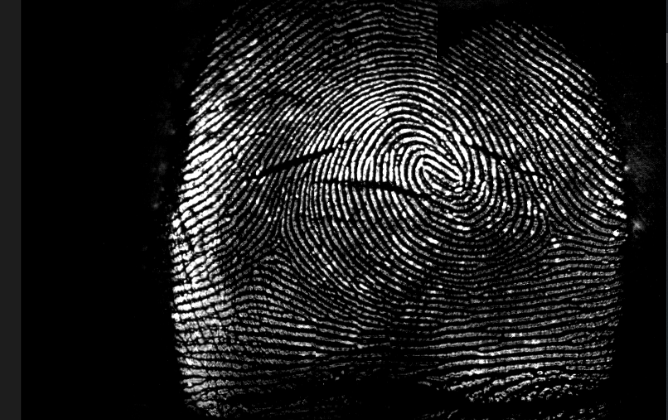deltas: (525, 196, 581, 255), (251, 215, 303, 268)
nucleo: (410, 127, 470, 190)
